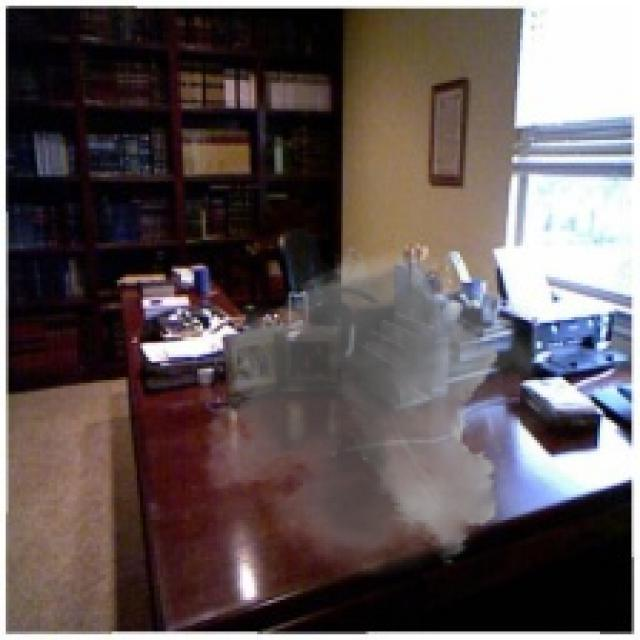Smoke: (185, 234, 578, 577)
